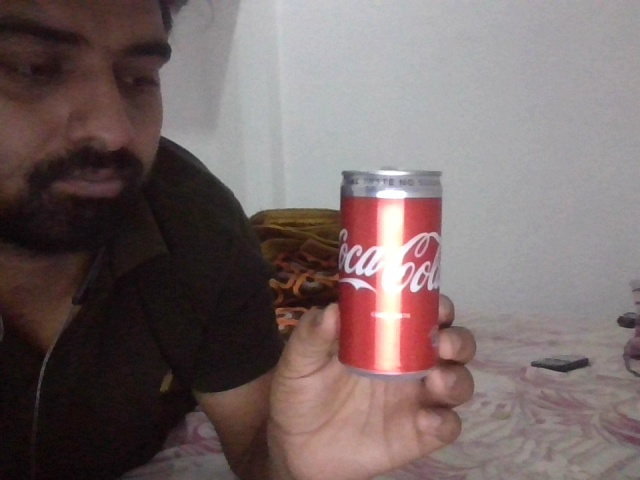Can: (338, 164, 438, 374)
